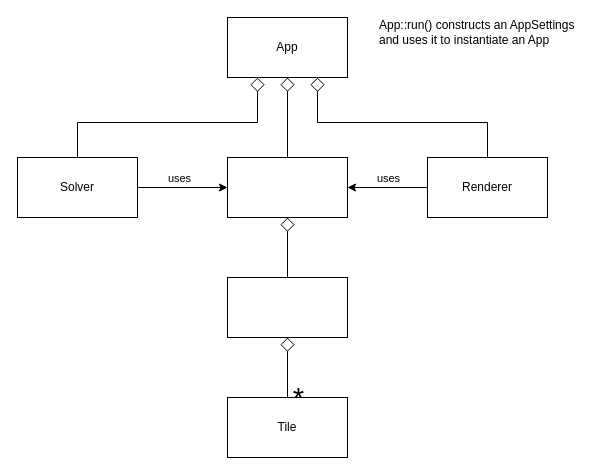
Some shapes in this 615 by 475 pixel diagram are drawn without their labels. The shapes that lost their labels are listed below. From the top down, each one's centre as x and y in pixels, then its label:
point 287,187: AppState
point 287,307: Grid
